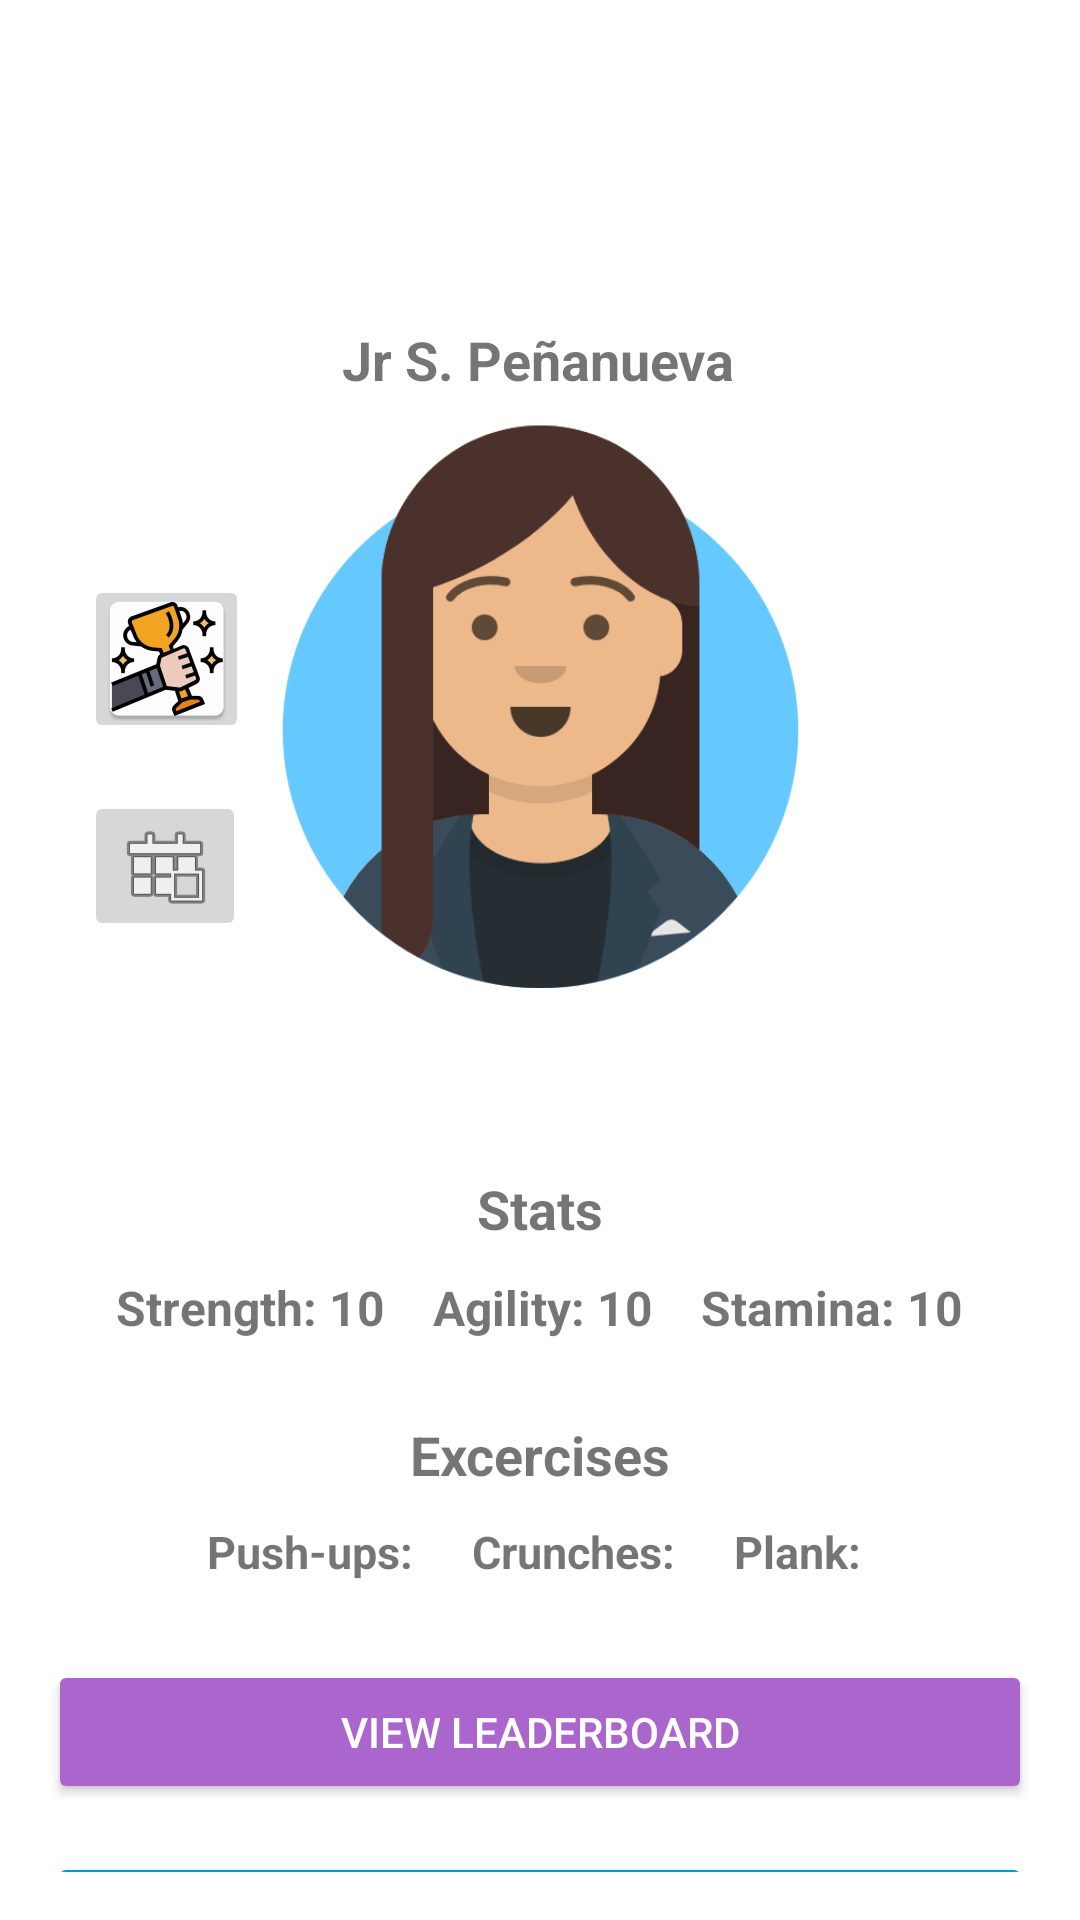

Where to tap for icons on this 1080×1920 app screen, as point (x, y):
achievements: point (166, 659)
today: point (165, 866)
